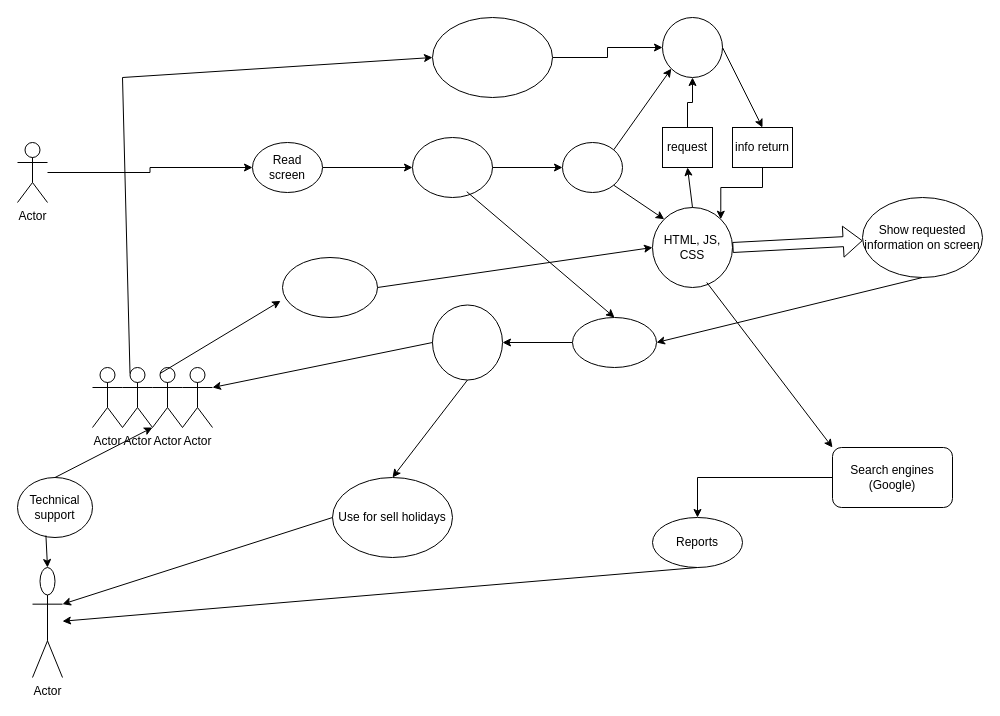
The diagram is 1000 pixels wide and 716 high, and some of its shapes have lost their labels. The shapes that lost their labels are listed below. From the top down, each one's box as (x1, y1, x2, y2) in pixels, then its label:
(432, 16, 552, 98): Security and protection (login and password access)
(662, 16, 722, 78): DB
(412, 136, 492, 198): Type in keyboard
(562, 142, 622, 192): Click + Enter
(282, 256, 378, 318): Manage, deploy and update
(432, 304, 502, 380): Analyse
(572, 316, 656, 368): Track and history
